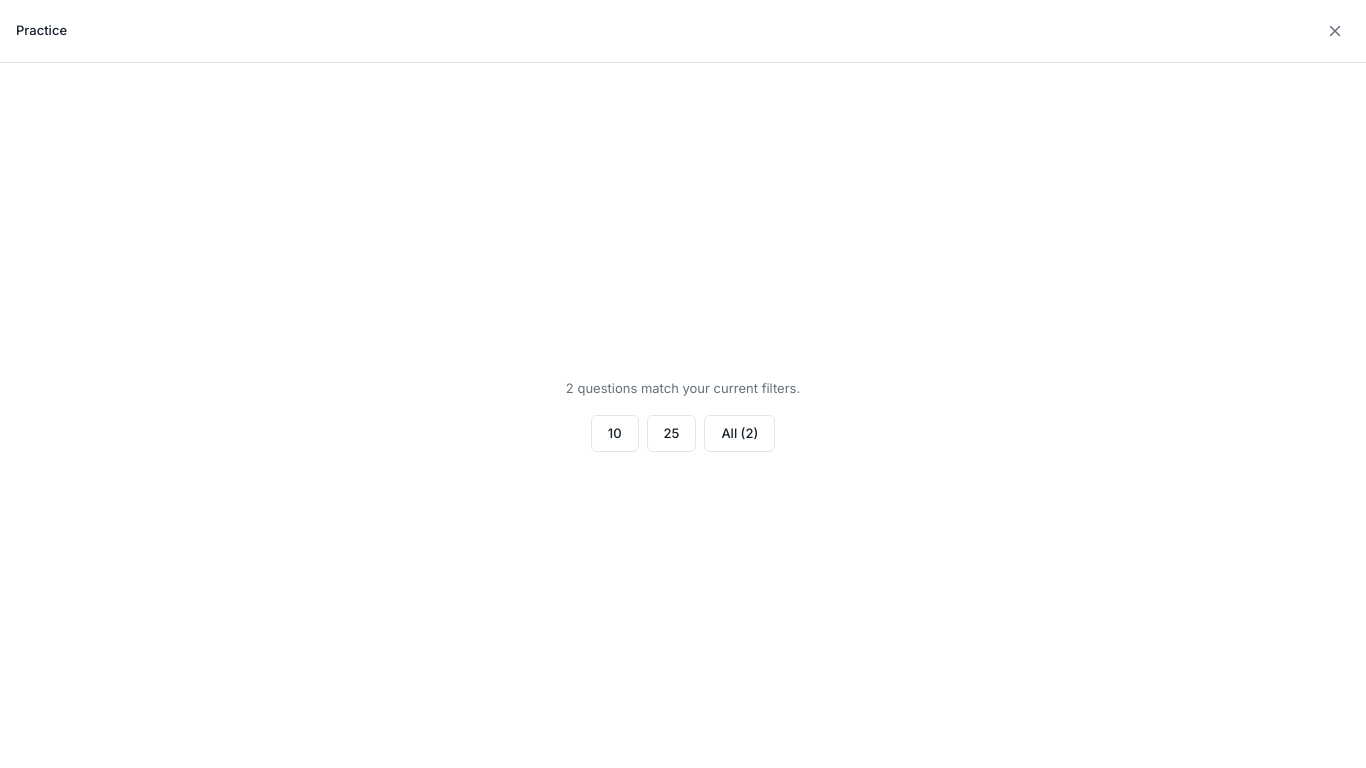
Test: PracticeMode › starting a session shows the question front, not the answer
Click the button "All (2)": (740, 433) [704,414,775,452]
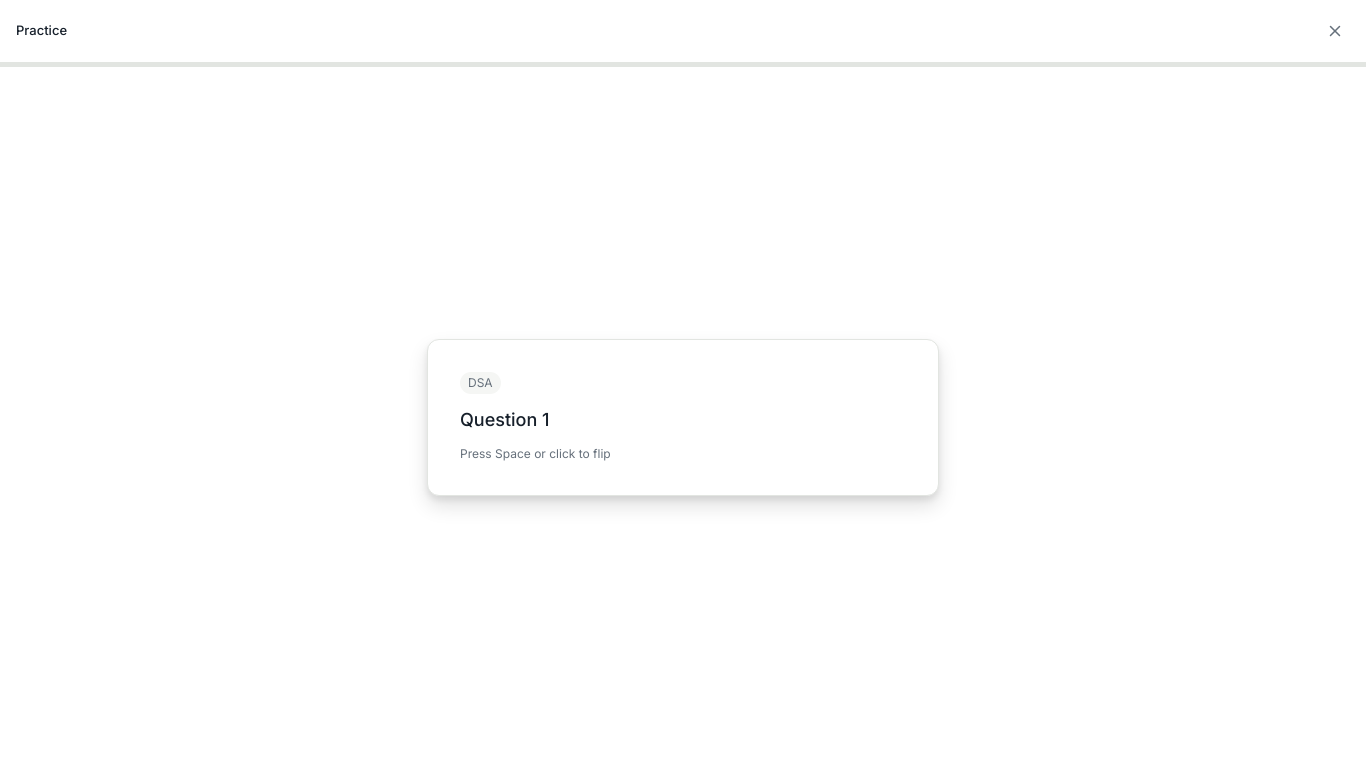
expect the text "Press Space or click to flip" is shown: met, box [460,445,611,463]
